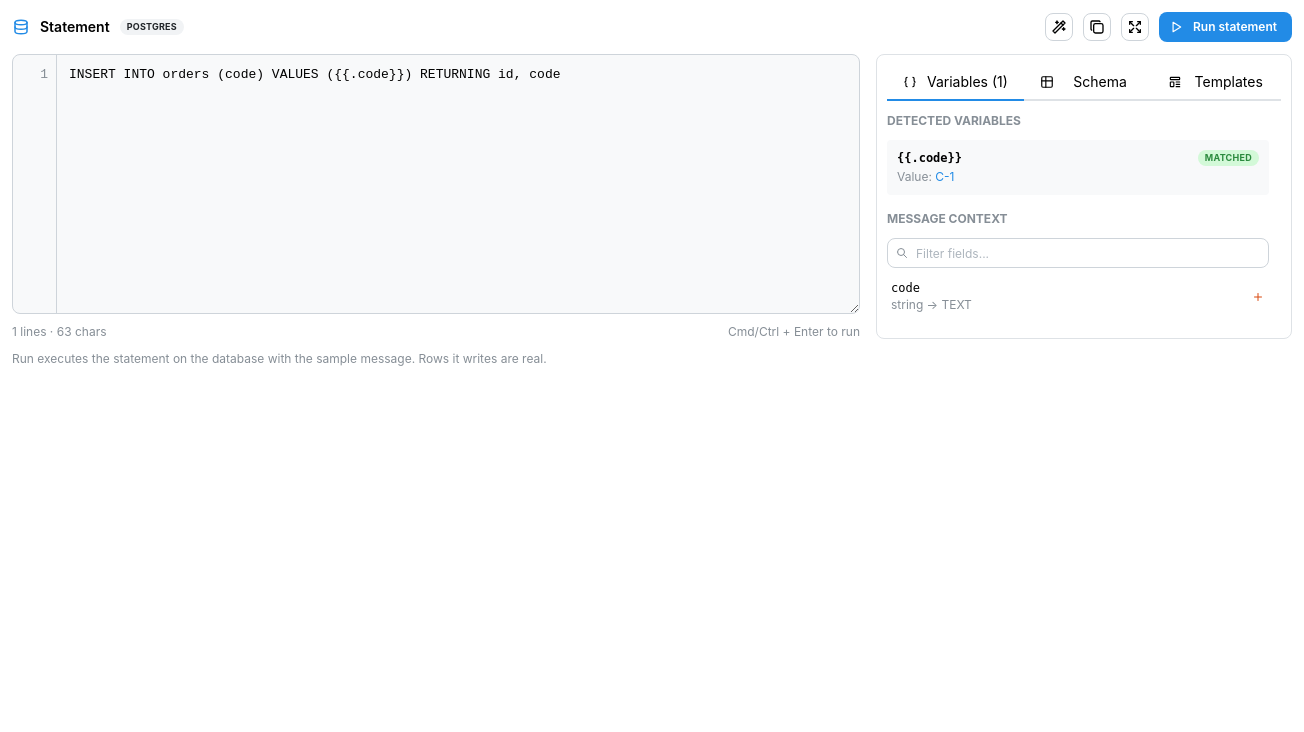
Scenario: SQL builder workspace › runs the statement and shows what it returned
Click the button "Run statement" at (1225, 27), box [1159,12,1292,42]
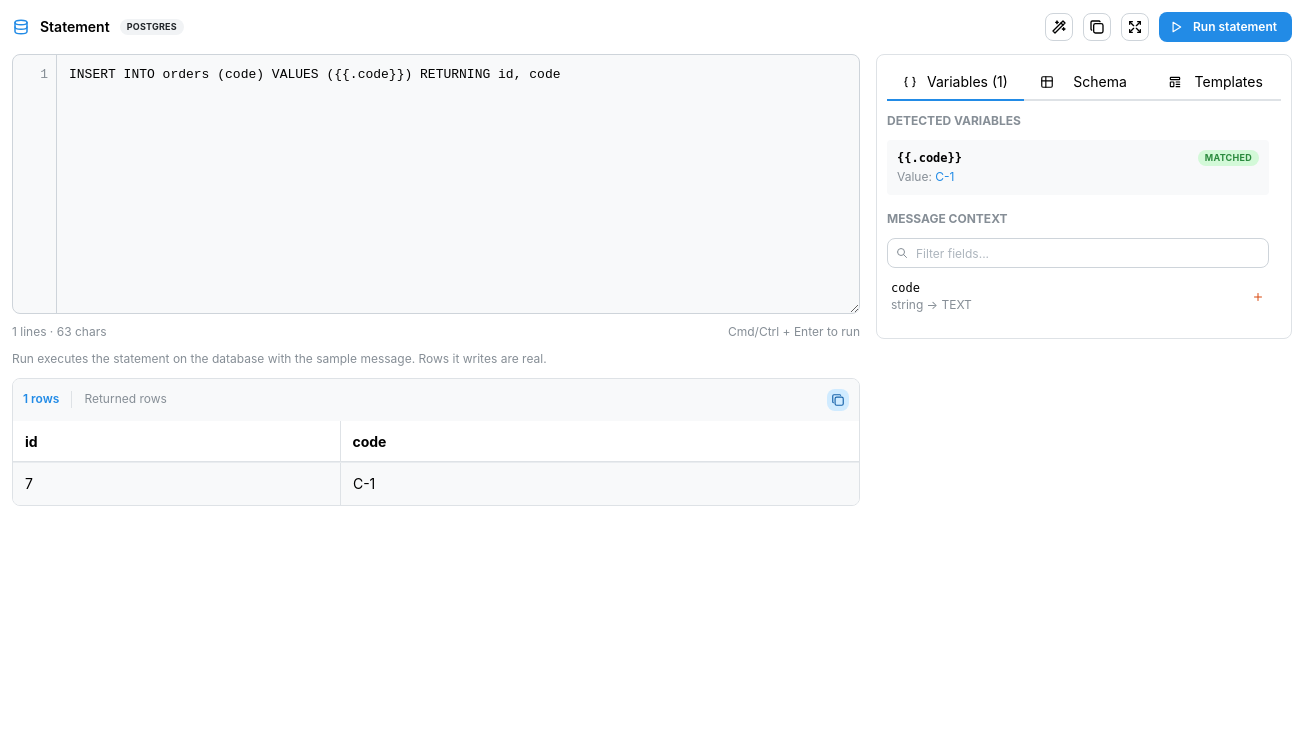
Expected: the element with test id "sql-results" shows "1 rows", [12,378,860,506]
Expected: the element with test id "sql-results" shows "Returned rows", [84,391,167,406]
Expected: the text "C-1" is shown, [340,463,859,505]
